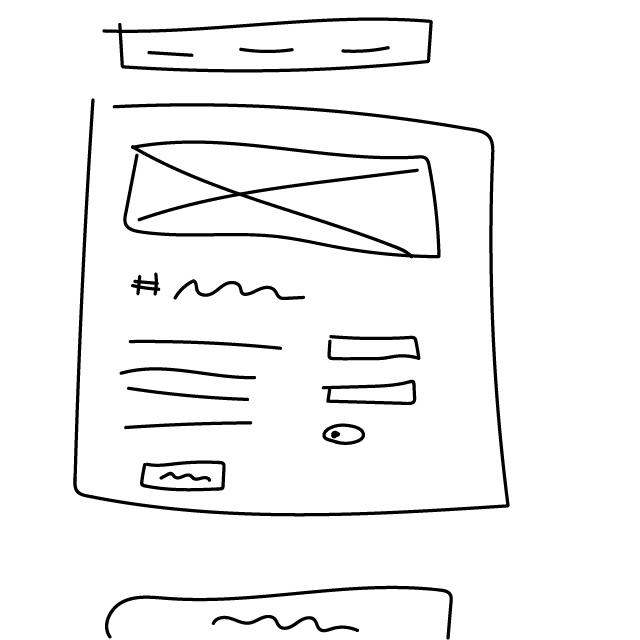button: (138, 456, 229, 496)
checkbox: (322, 424, 369, 445)
container: (67, 94, 519, 527)
footer: (97, 583, 464, 640)
frame: (121, 137, 444, 262)
heading: (131, 270, 312, 310)
input: (326, 334, 425, 367), (322, 379, 420, 410)
nav: (96, 14, 447, 77)
text: (115, 333, 285, 434)
